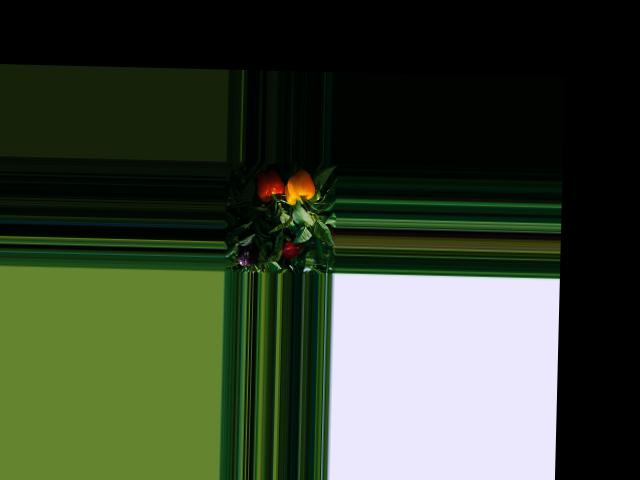bell_pepper: (277, 170, 316, 207)
